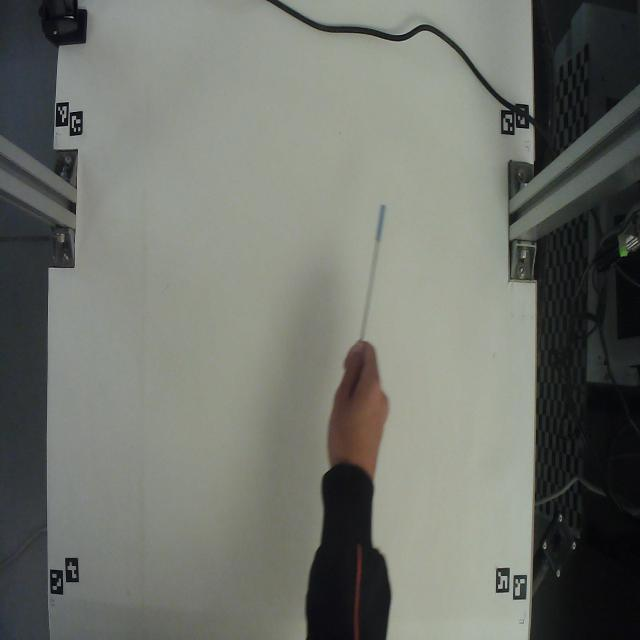NoPres: (350, 195, 391, 348)
